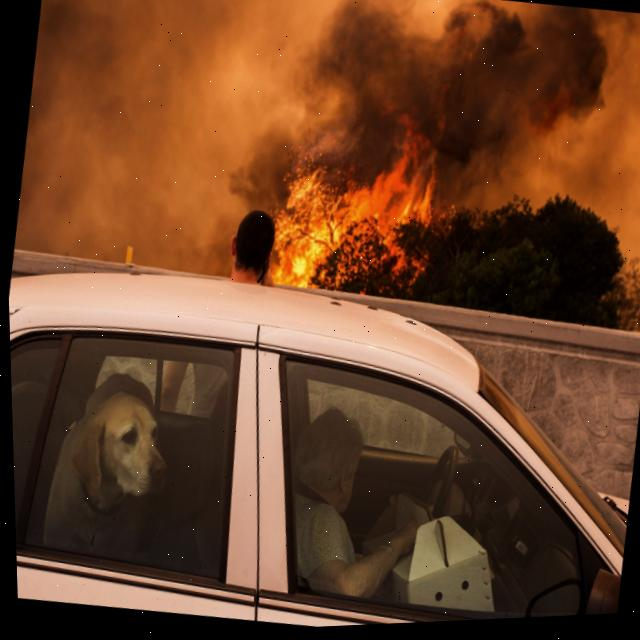fire: (272, 141, 435, 288)
smoke: (22, 0, 640, 230), (12, 171, 235, 278)
